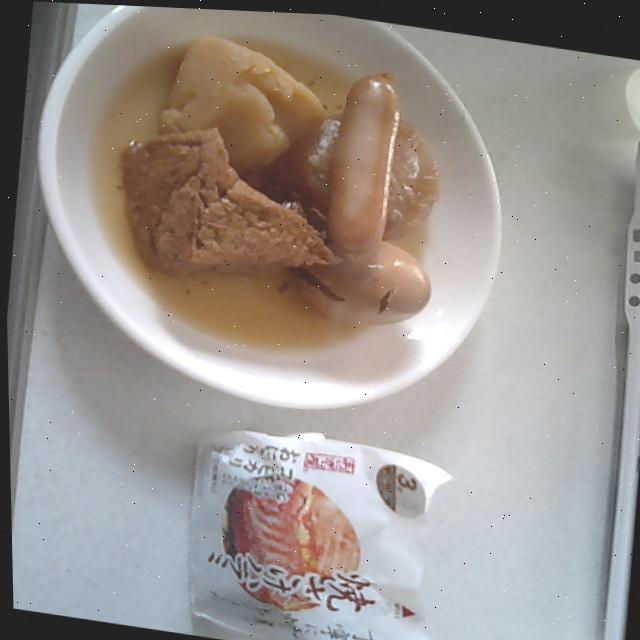汤锅炖物: (104, 20, 453, 348)
